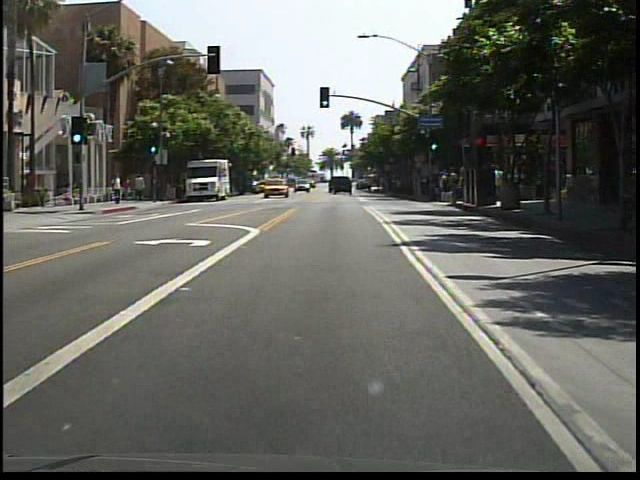person: (113, 173, 126, 208), (135, 172, 149, 202), (61, 184, 76, 208), (123, 176, 136, 202)
